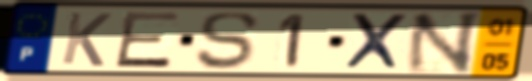1: (276, 12, 305, 70)
E: (111, 10, 183, 70)
K: (58, 10, 115, 69)
N: (402, 10, 486, 76)
S: (194, 10, 261, 72)
X: (341, 11, 411, 72)
